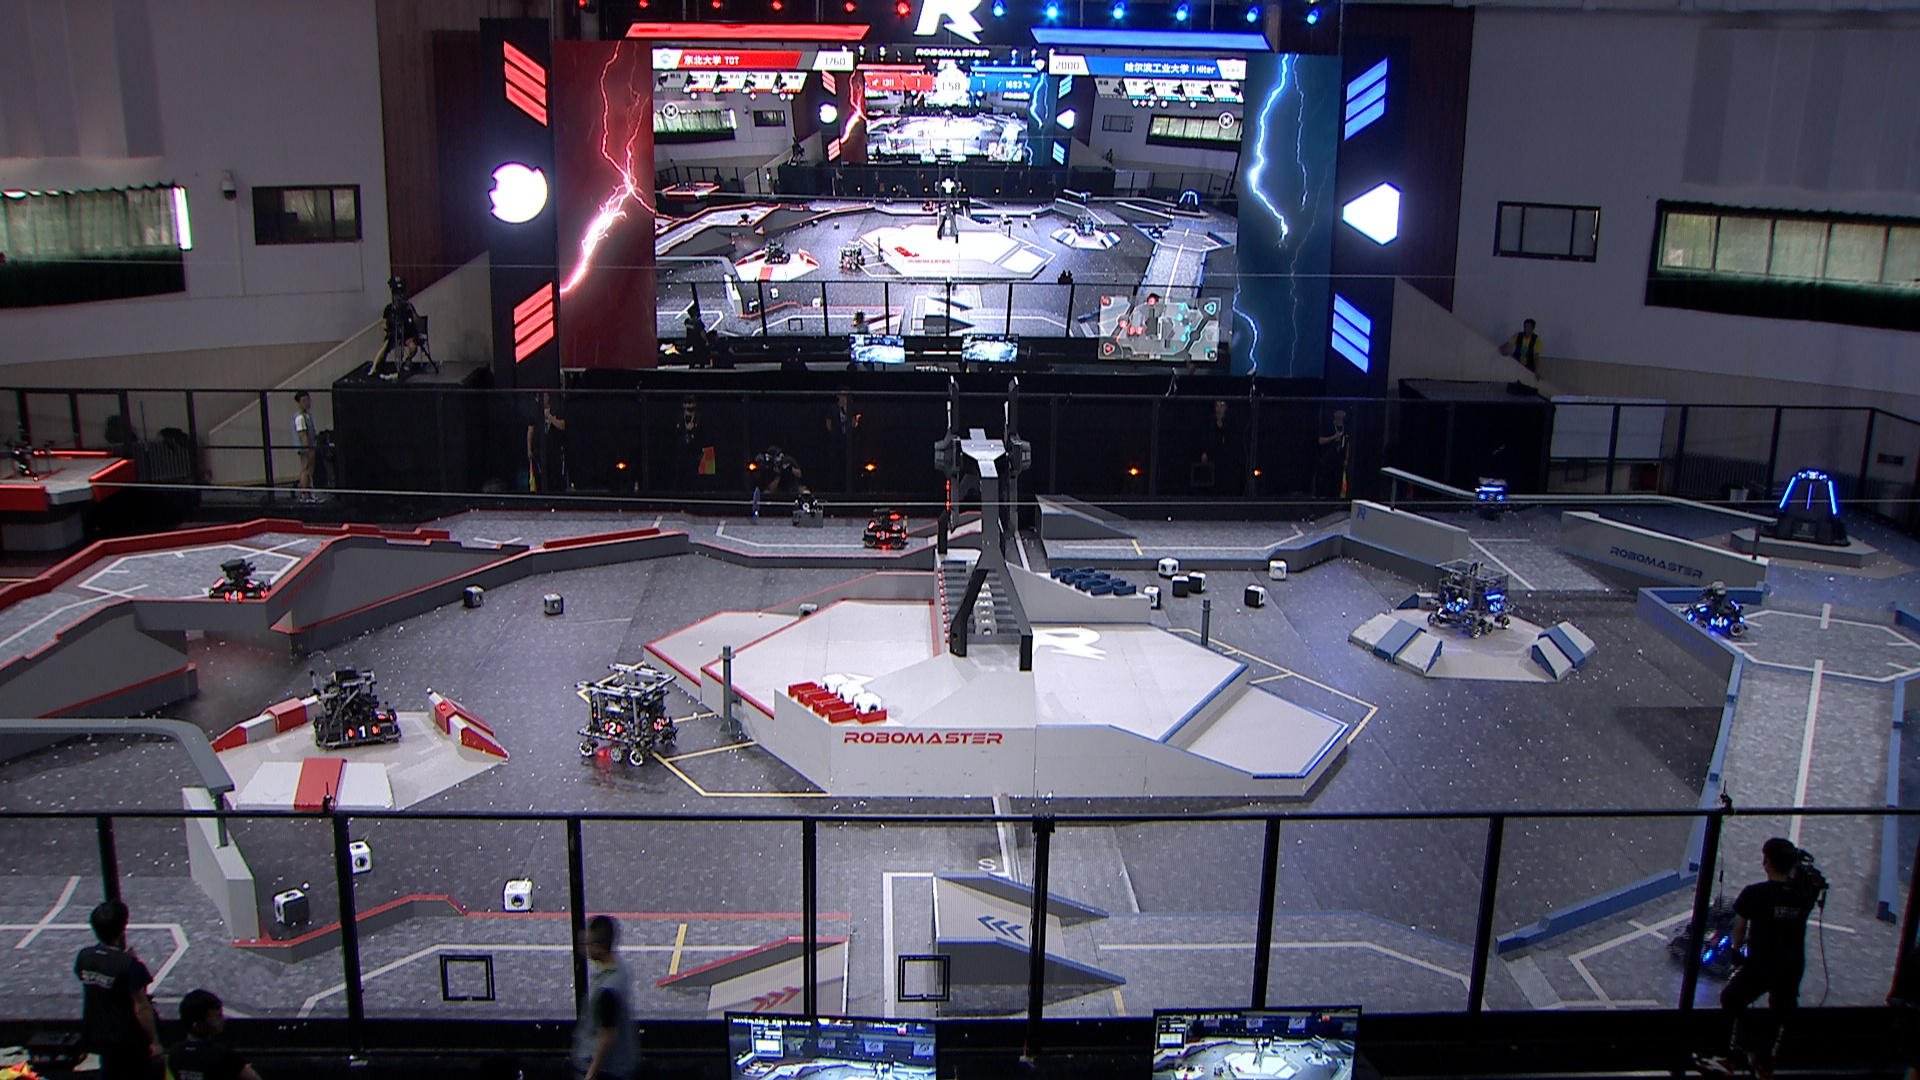armor: (1775, 475, 1799, 510), (345, 723, 381, 740), (1704, 924, 1730, 945), (1826, 477, 1840, 518), (1803, 479, 1816, 513), (1476, 491, 1505, 505), (647, 713, 667, 733), (1708, 613, 1730, 629), (372, 704, 392, 721), (603, 719, 622, 736), (253, 583, 273, 600), (1692, 599, 1712, 616), (1803, 469, 1826, 483), (224, 588, 245, 603), (1486, 600, 1505, 616), (243, 576, 262, 591), (873, 527, 891, 542), (1443, 600, 1461, 615), (887, 518, 902, 531)
base: (1756, 463, 1851, 550)
car: (575, 657, 683, 766), (1665, 893, 1771, 982), (309, 665, 405, 752), (1425, 553, 1515, 640), (1679, 582, 1750, 638), (206, 556, 276, 607), (861, 505, 913, 551)
ignore: (835, 240, 869, 273), (1172, 187, 1203, 215), (760, 239, 793, 264), (1069, 211, 1100, 237), (1141, 222, 1166, 239), (732, 214, 757, 229), (1073, 187, 1095, 202)
watcher: (1472, 473, 1514, 522)
